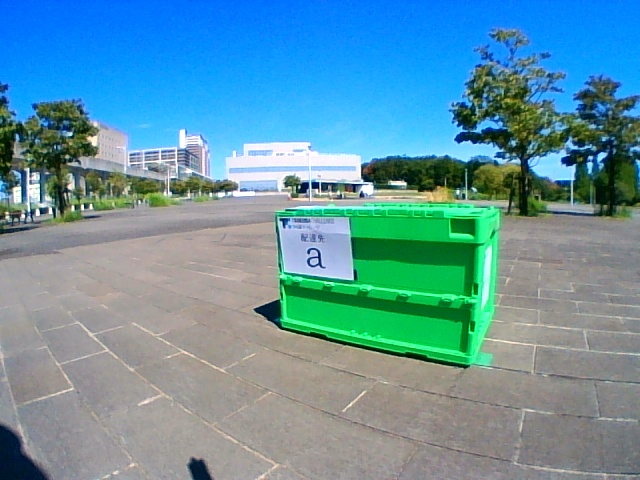green_box: (276, 204, 500, 367)
tag_a: (283, 219, 348, 274)
